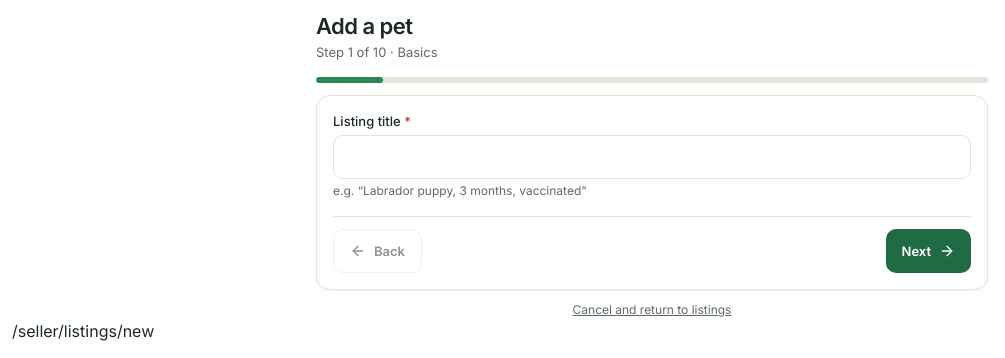
Test case: listing wizard › blocks step 1 until the title is long enough
Type "Pup" into the field labelled "Listing title *" at (652, 157), box top-left (333, 135), bottom-right (971, 179)
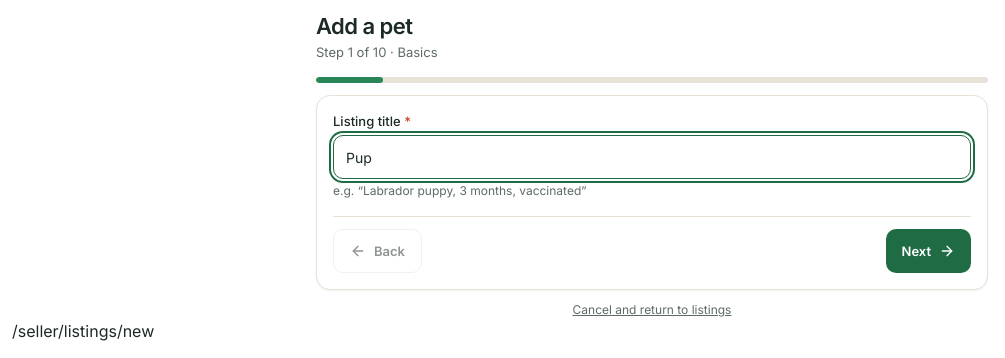
Click the button "Next" at (928, 251), box top-left (886, 229), bottom-right (971, 273)
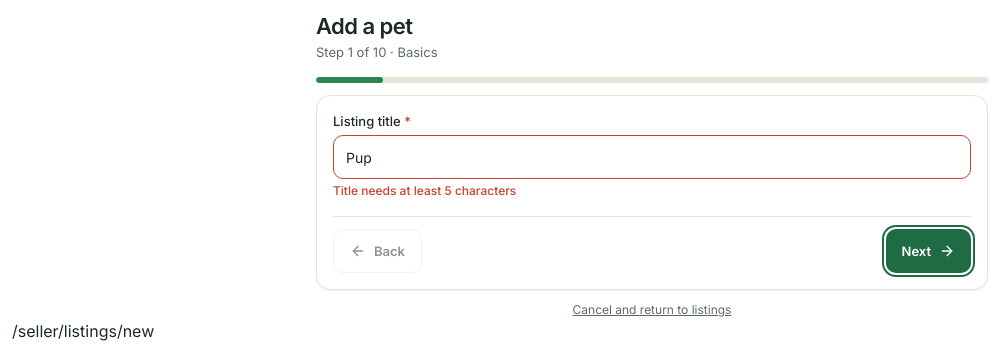
Expected: the text "Step 1 of 10 · Basics" is shown, top-left (316, 43), bottom-right (438, 61)
Result: the text "Title needs at least 5 characters" is shown at top-left (333, 183), bottom-right (516, 198)
